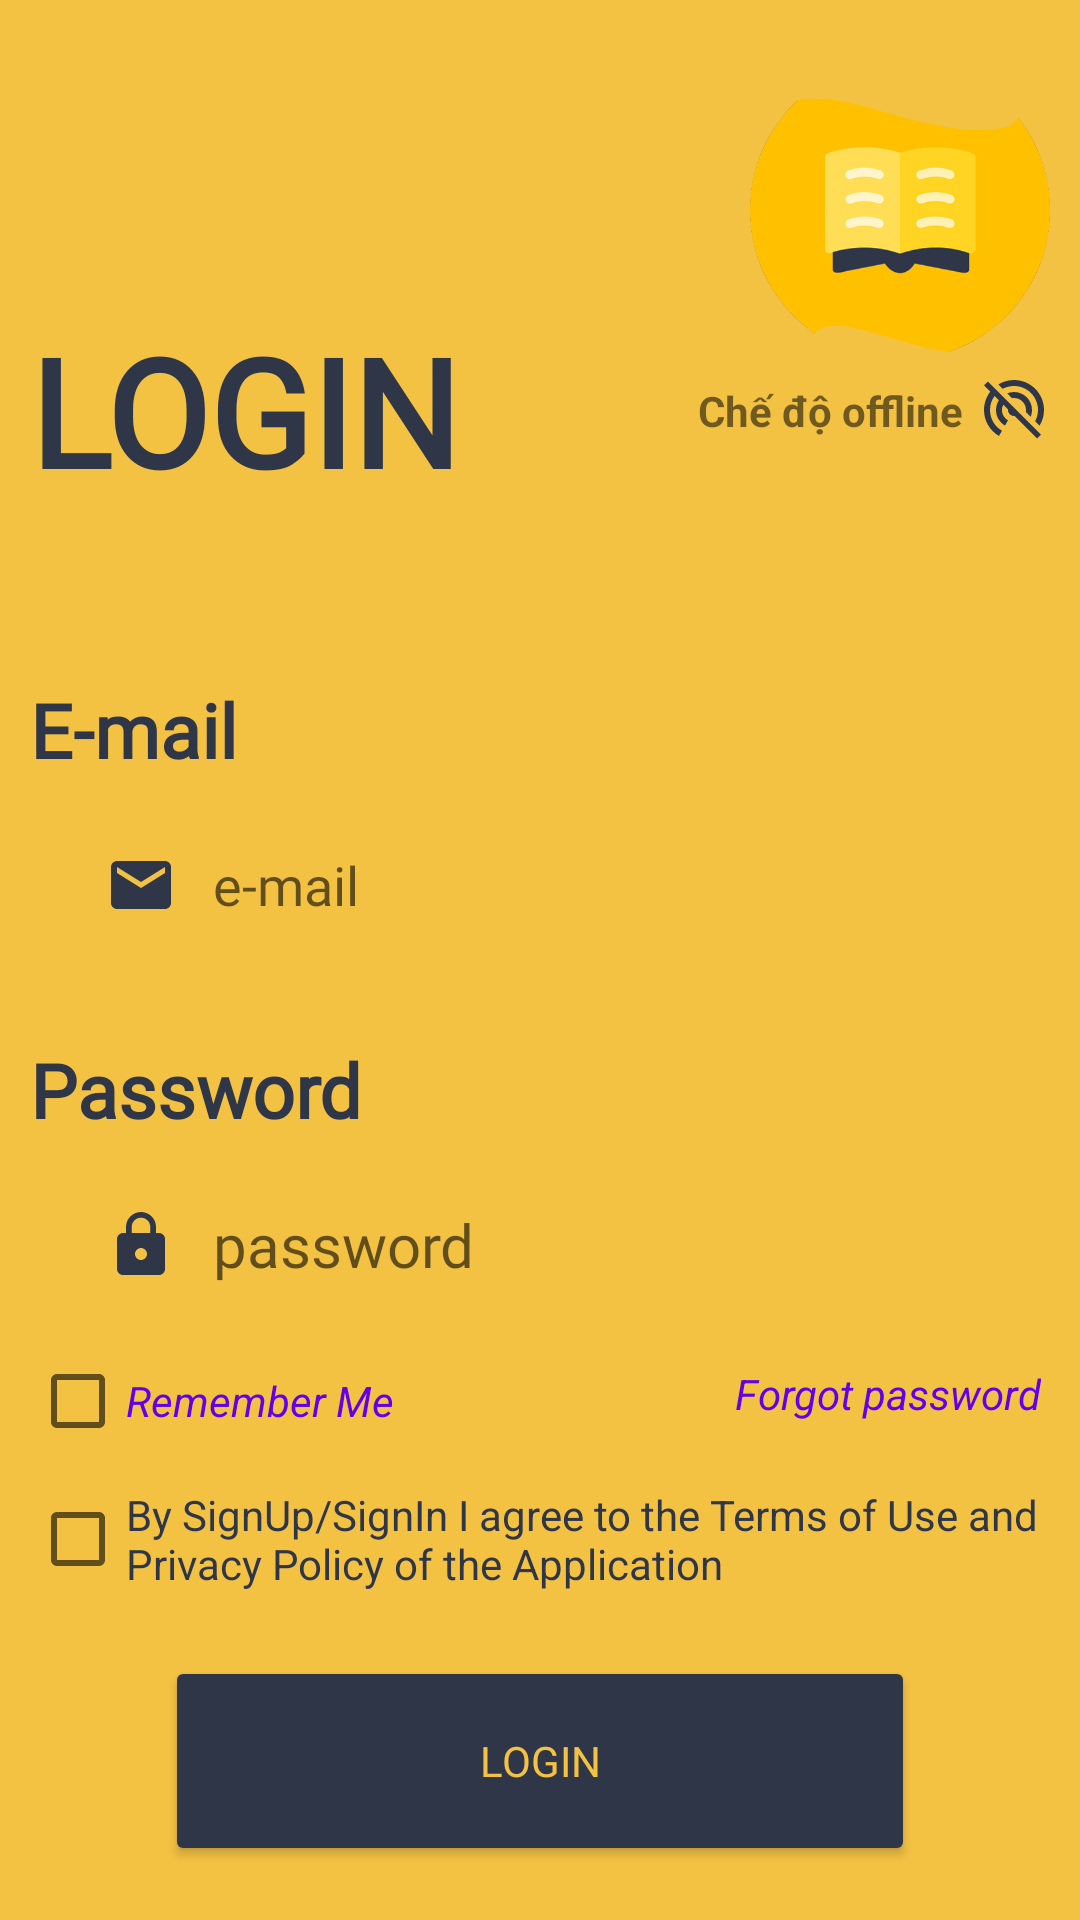

Icons on this 1080 x 1920 Android screen, each with the point to tap as (x,y):
wifi: (1014,409)
